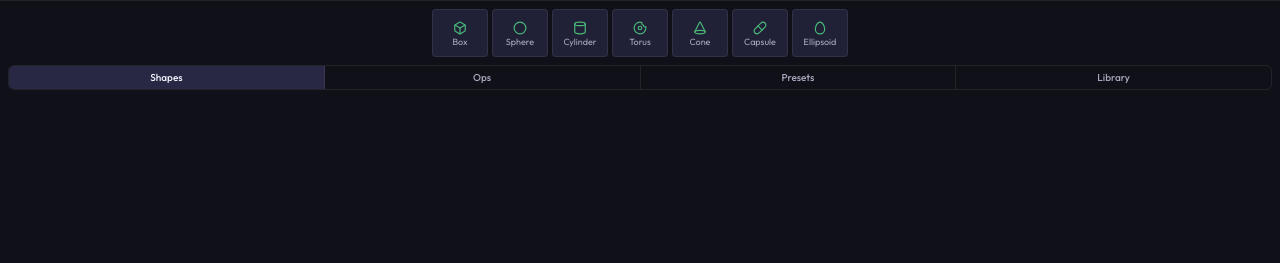
PartsPalette personal library › saves through an accessible inline form and inserts as one undoable copy
Click the tab "Library": {"x": 1114, "y": 78} [956, 66, 1271, 89]
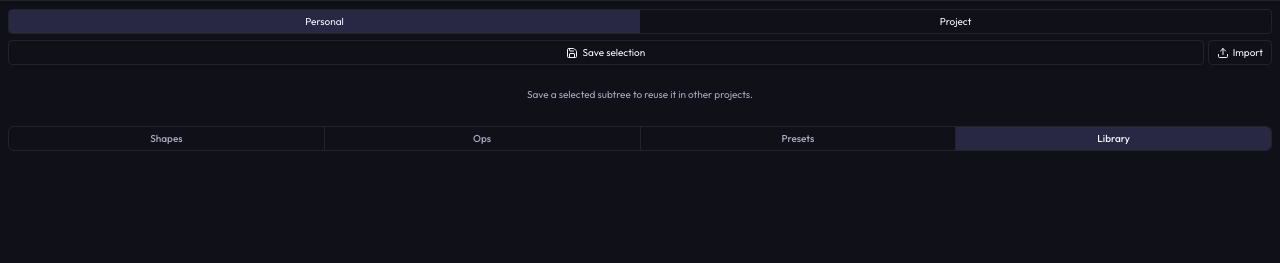
Click the button "Save selection": {"x": 606, "y": 52} [8, 40, 1204, 65]
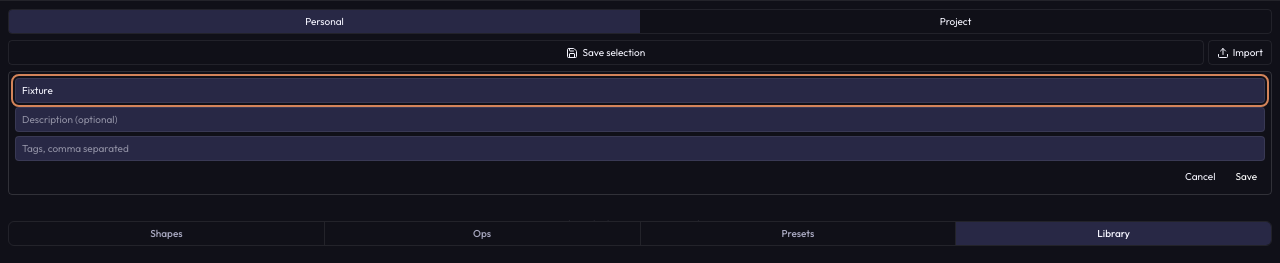
Replace the text in the field named "Component name" with "Bench fixture": {"x": 640, "y": 90} [15, 78, 1265, 103]
In the field named "Component description": {"x": 640, "y": 120} [15, 107, 1265, 132], type "Reusable jig"
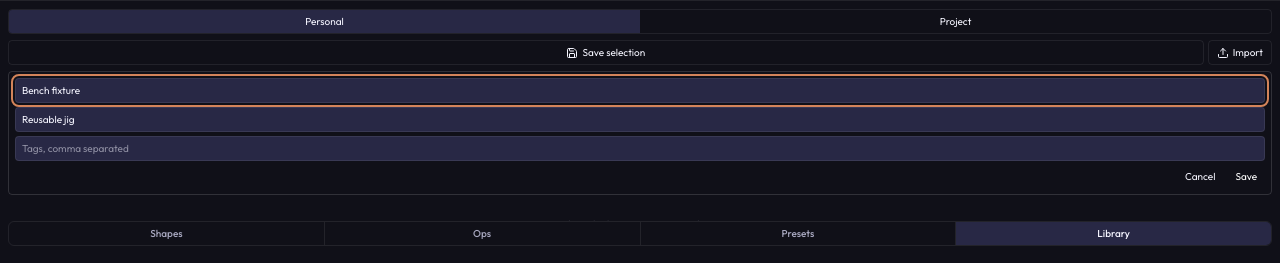
In the field named "Component tags": {"x": 640, "y": 148} [15, 136, 1265, 161], type "shop, jig"
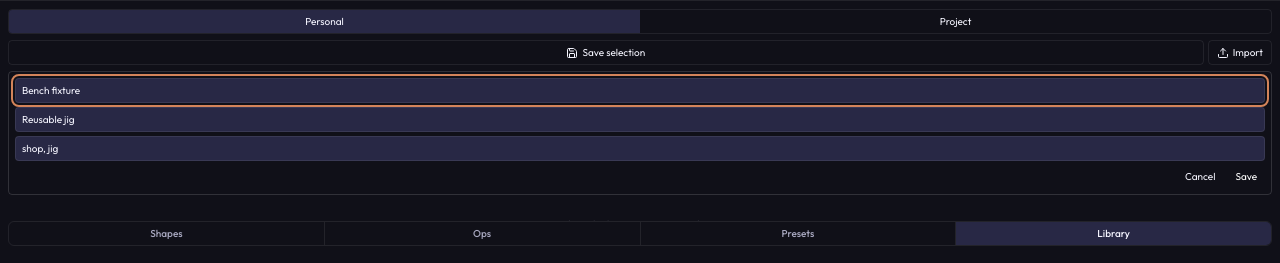
Click the button "Save": {"x": 1246, "y": 176} [1227, 165, 1265, 188]
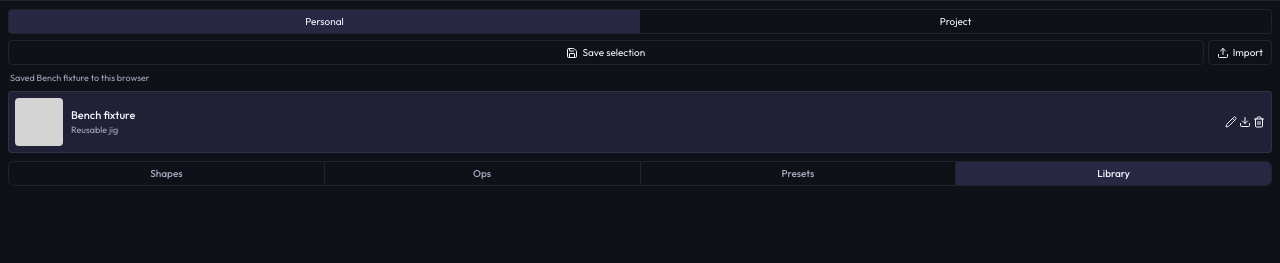
Expected: the message shows "Saved Bench fixture", [10, 72, 150, 83]
Click the button titled "Insert Bench fixture as a copy": {"x": 39, "y": 122} [15, 98, 1217, 146]
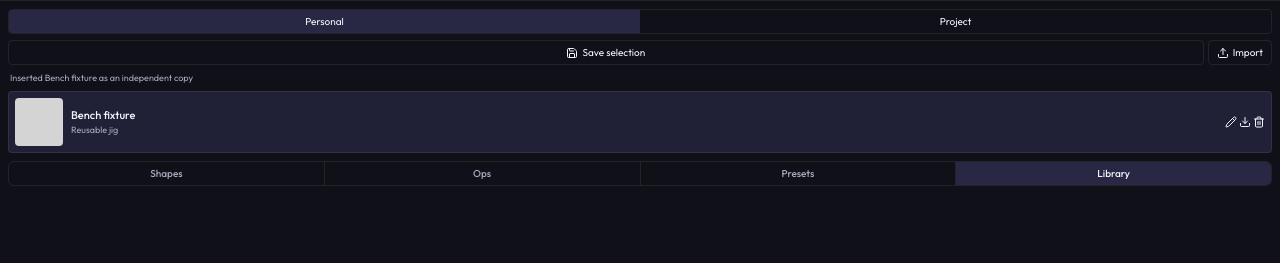
Expected: the message shows "independent copy", [10, 72, 193, 83]
